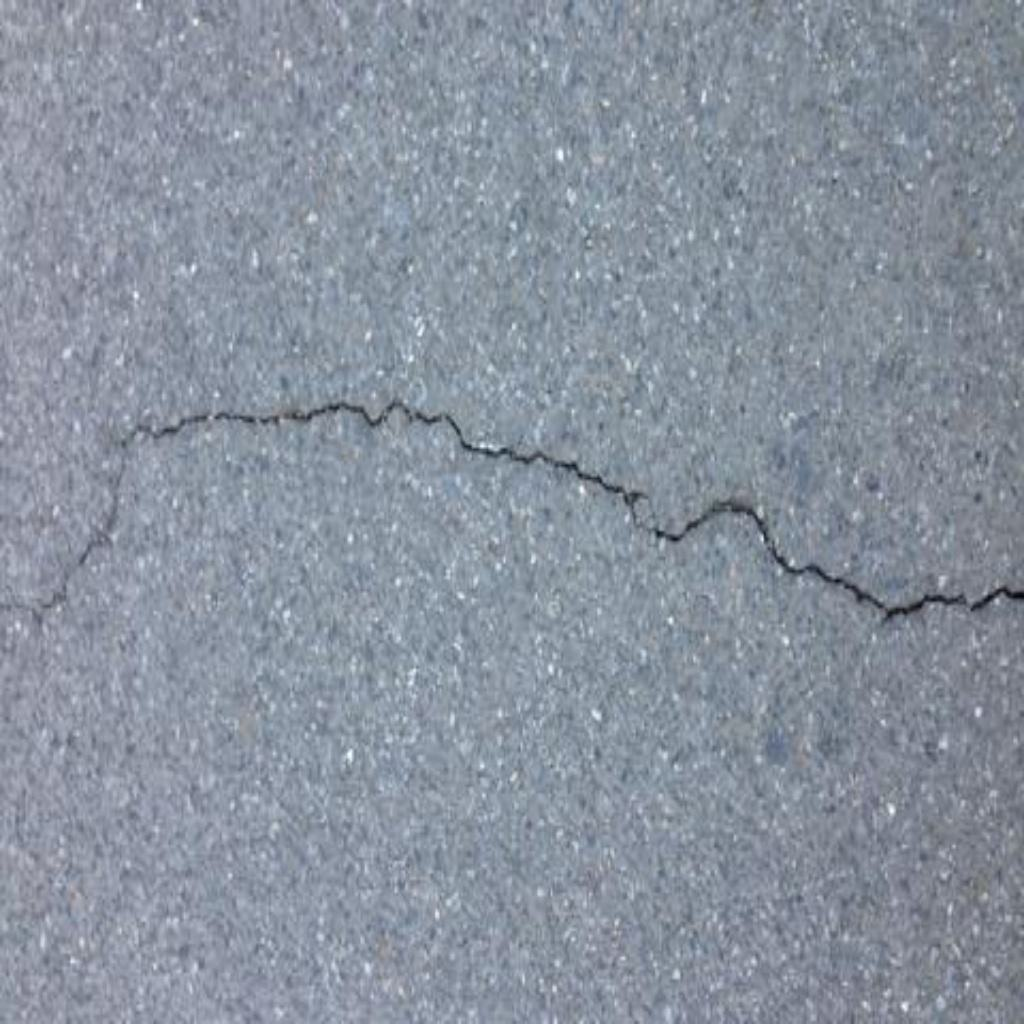Crack: (1, 398, 1024, 628)
